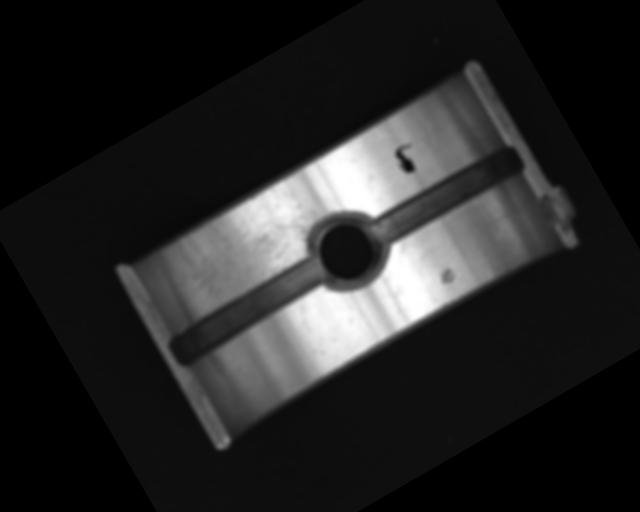blot: (389, 140, 424, 177)
bruise: (434, 265, 457, 287)
gap: (162, 251, 333, 372), (365, 140, 525, 252)
hole: (296, 198, 397, 301)
scratch: (148, 170, 336, 325)
